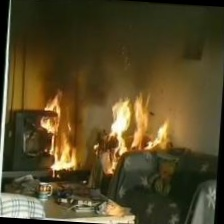fire: (37, 81, 180, 161)
